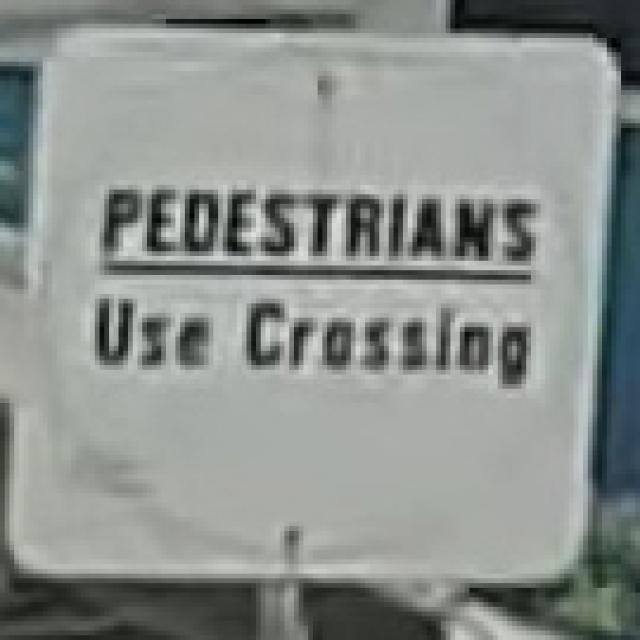pedestriancrossing_sign: (0, 19, 621, 588)
